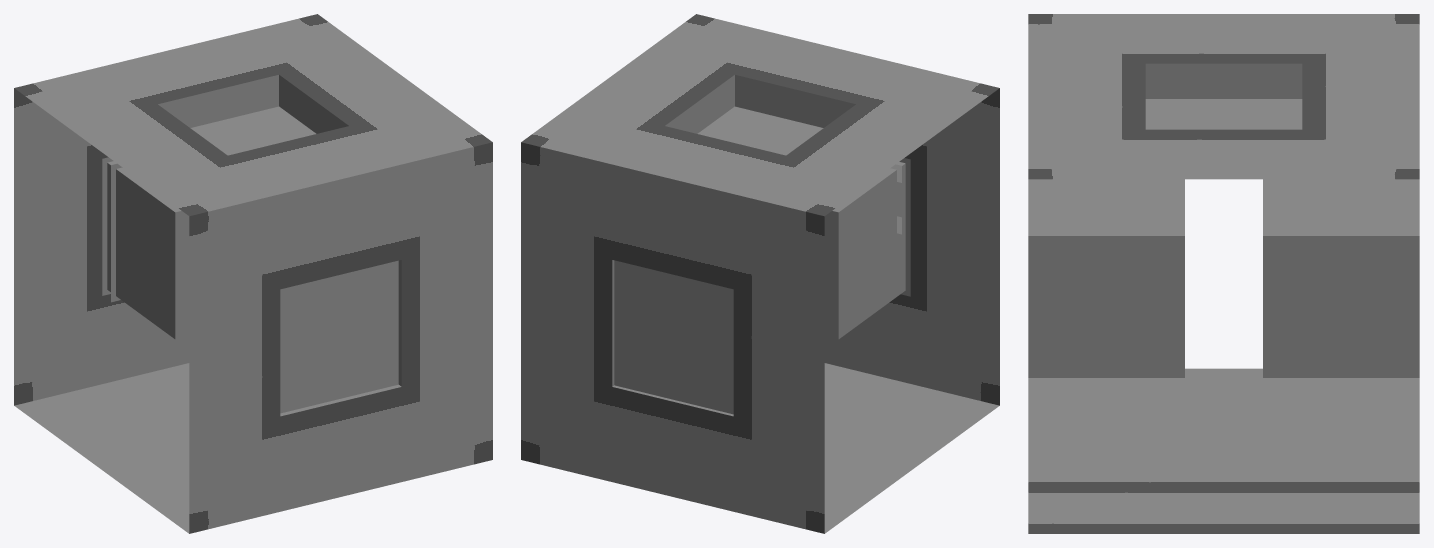
The model's file is liquefier.obj.
3 views of the same model, side by side, from view 1: azimuth 30°, elevation 25°; view 2: azimuth 150°, elevation 25°; view 3: azimuth 270°, elevation 25° (orthographic). The views are drawn at different scales.
Visible parts, largest first — view 1: liquefier_Cube_Cube.001; view 2: liquefier_Cube_Cube.001; view 3: liquefier_Cube_Cube.001.
Boxes of the visible parts, bbox=[...] form: liquefier_Cube_Cube.001: bbox=[14, 14, 492, 533]; liquefier_Cube_Cube.001: bbox=[521, 14, 999, 533]; liquefier_Cube_Cube.001: bbox=[1028, 14, 1419, 533].
Size of the model in its own units: 1 by 1 by 1.
